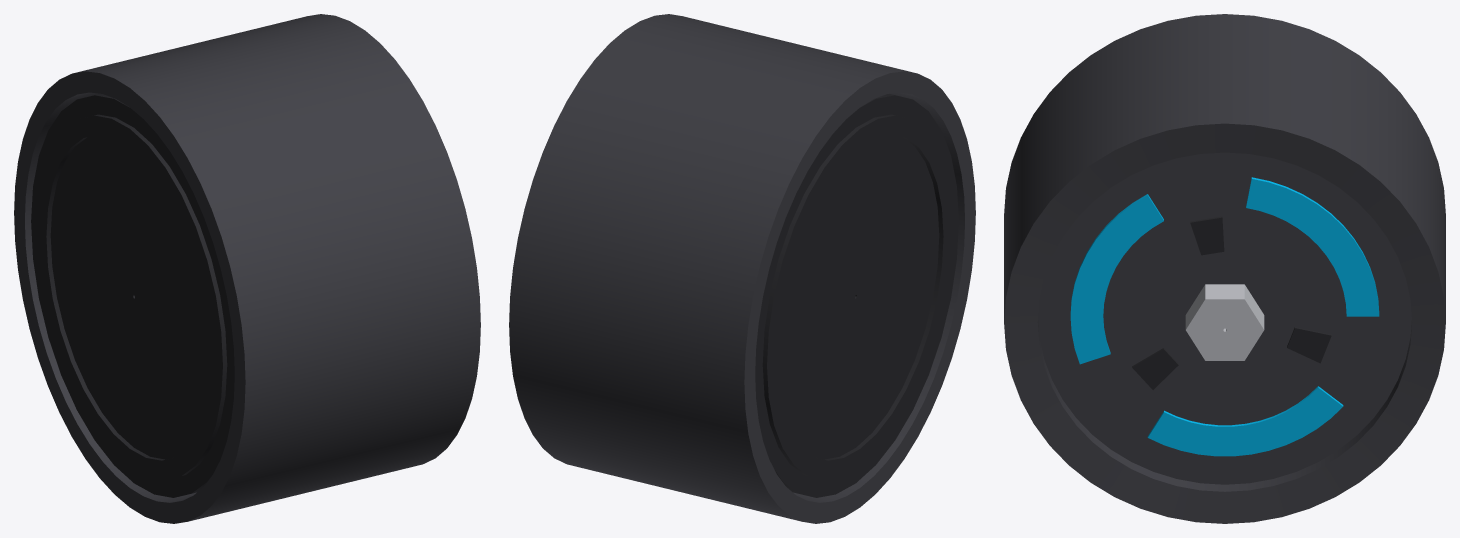
Rendered from covered_front.glb.
3 renders of one model, left to right at view 1: azimuth 30°, elevation 25°; view 2: azimuth 150°, elevation 25°; view 3: azimuth 270°, elevation 25°, orthographic. The views are drawn at different scales.
Parts seen in each view (by area): view 1: Rim_covered_front; view 2: Rim_covered_front; view 3: Rim_covered_front.
Part boxes in pixels (bbox=[...]): Rim_covered_front: bbox=[14, 14, 480, 523]; Rim_covered_front: bbox=[509, 14, 975, 523]; Rim_covered_front: bbox=[1004, 14, 1445, 523].
Size of the model in its own units: 0.293 by 0.472 by 0.472.
